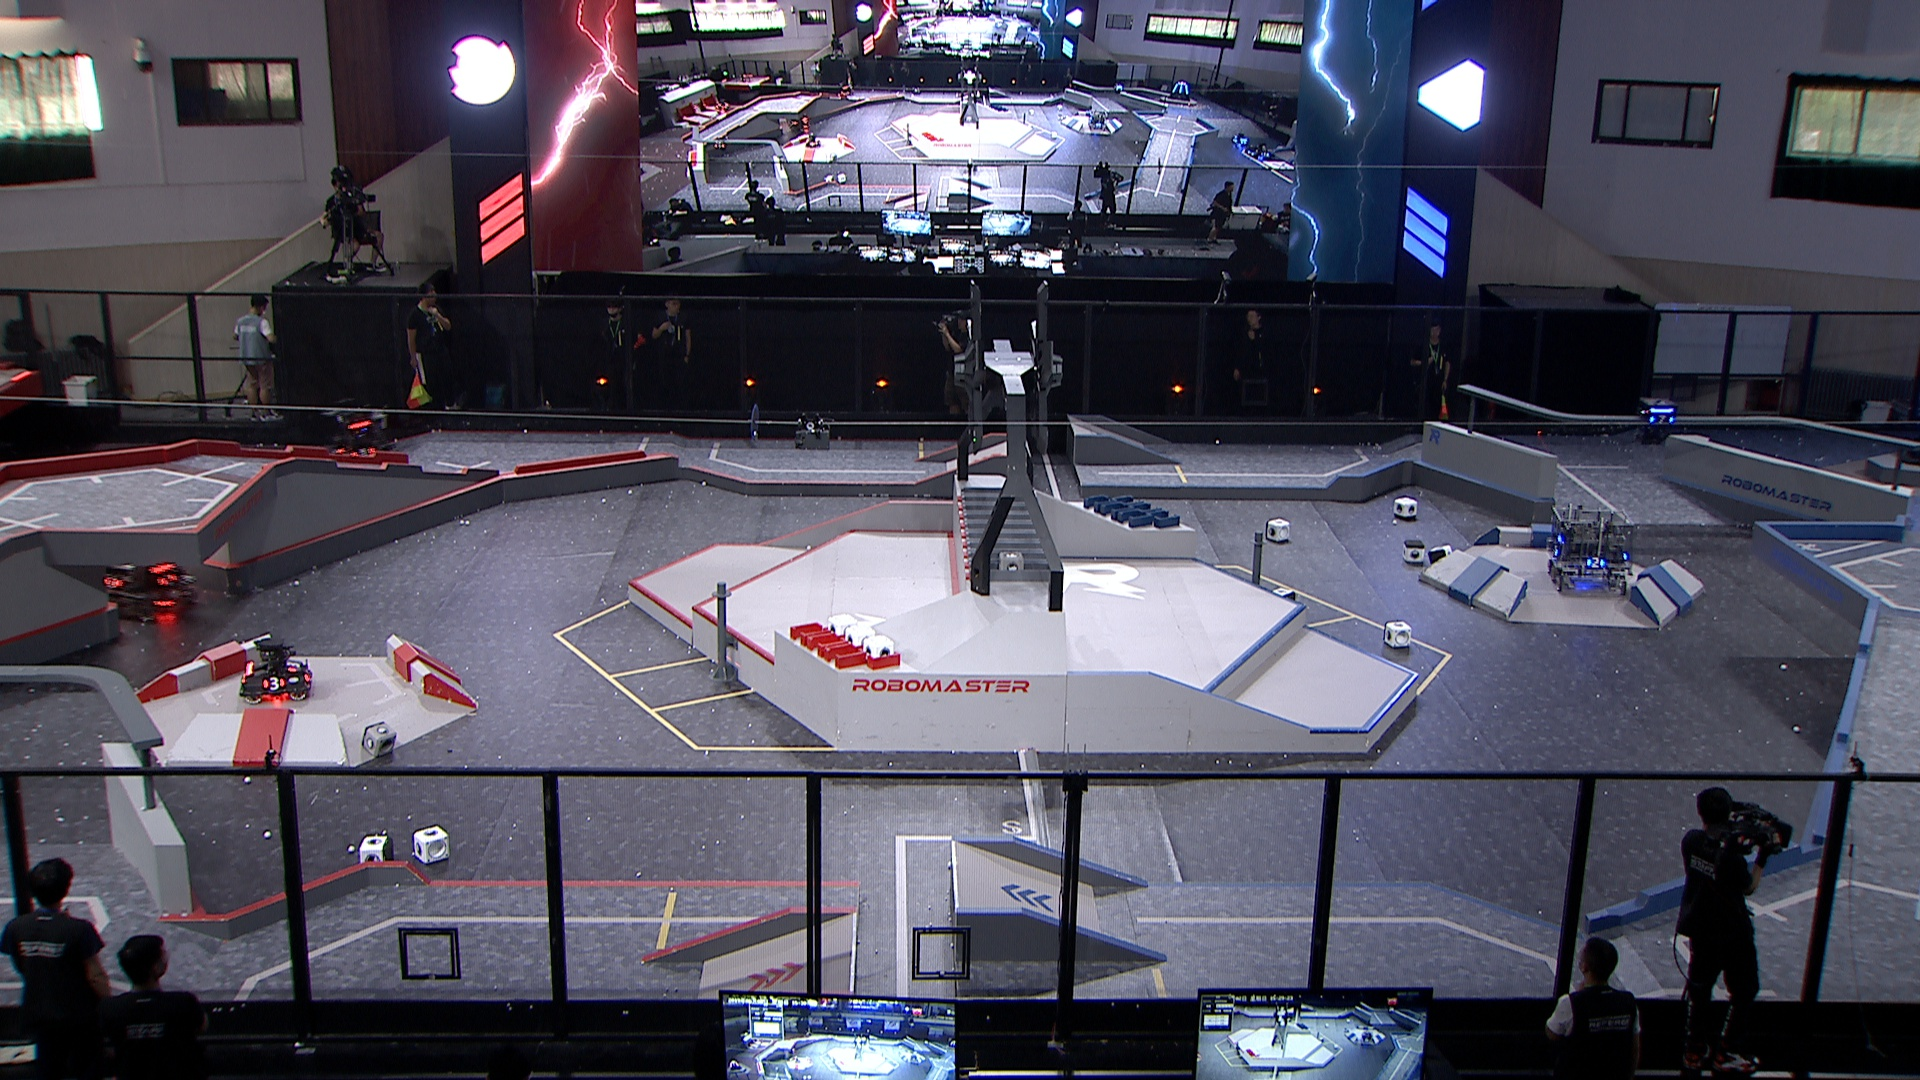armor: (261, 676, 287, 694), (1647, 413, 1673, 427), (347, 447, 378, 458), (157, 571, 179, 585), (102, 576, 124, 591), (1584, 556, 1607, 570), (284, 659, 302, 674)
car: (92, 513, 204, 617), (1544, 498, 1636, 593), (237, 636, 316, 703), (323, 398, 400, 467)
watcher: (1633, 396, 1679, 447)
